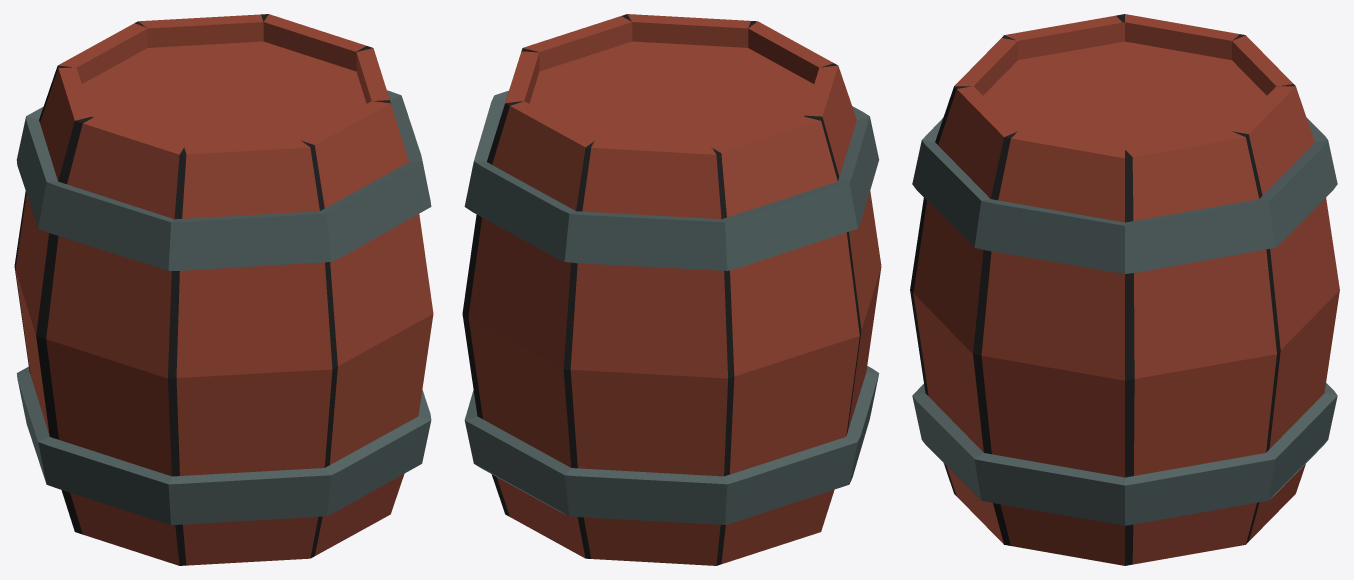
Rendered from Barrel_3_Red.fbx.
The picture shows the model from 3 angles, left to right: view 1: azimuth 30°, elevation 25°; view 2: azimuth 150°, elevation 25°; view 3: azimuth 270°, elevation 25°; orthographic projection.
Parts seen in each view (by area): view 1: Barrel_3_Red_Part_1, Barrel_3_Red_Part_3, Barrel_3_Red_Part_2; view 2: Barrel_3_Red_Part_1, Barrel_3_Red_Part_3, Barrel_3_Red_Part_2; view 3: Barrel_3_Red_Part_1, Barrel_3_Red_Part_3, Barrel_3_Red_Part_2.
Boxes of the visible parts, x1,y1,x2,y2 form: Barrel_3_Red_Part_1: (15,14,433,565); Barrel_3_Red_Part_3: (16,90,431,524); Barrel_3_Red_Part_2: (14,14,390,565); Barrel_3_Red_Part_1: (468,14,881,565); Barrel_3_Red_Part_3: (464,90,879,524); Barrel_3_Red_Part_2: (462,14,861,565); Barrel_3_Red_Part_1: (913,14,1339,565); Barrel_3_Red_Part_3: (912,118,1337,525); Barrel_3_Red_Part_2: (910,14,1295,565).
Size of the model in its own units: 95.61 by 100 by 95.61.
